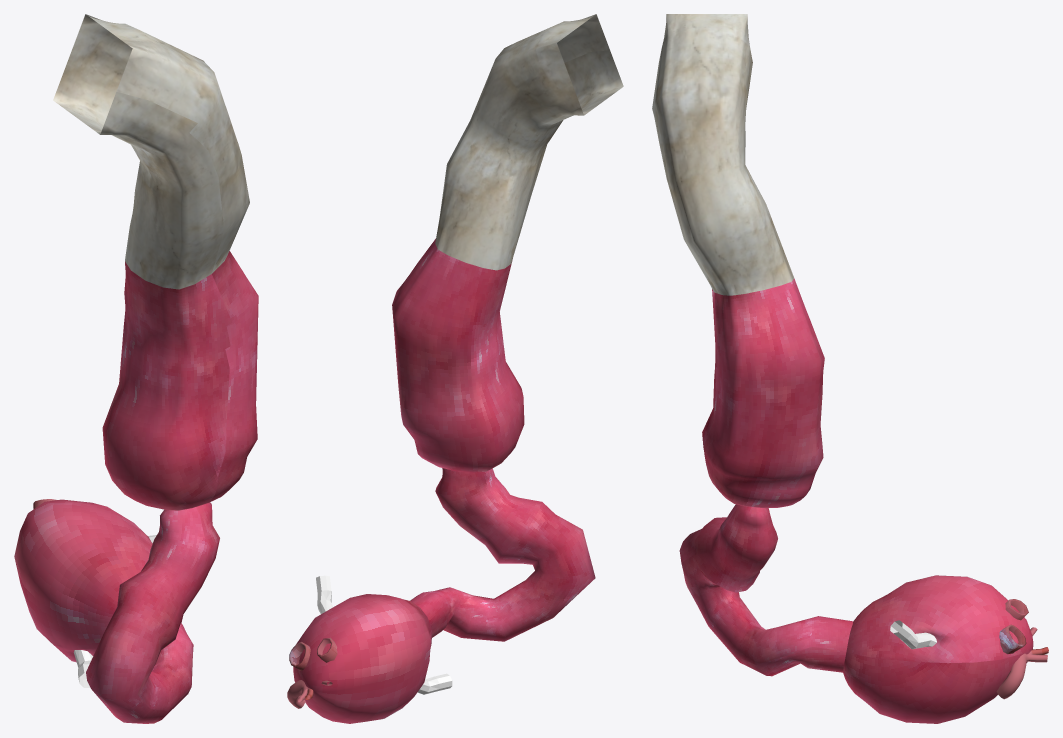
Rendered from inside.dae.
The picture shows the model from 3 angles, left to right: view 1: azimuth 30°, elevation 25°; view 2: azimuth 150°, elevation 25°; view 3: azimuth 270°, elevation 25°; orthographic projection. The views are drawn at different scales.
Parts seen in each view (by area): view 1: inside_tunnel, inside, cables; view 2: inside_tunnel, inside, heart, cables; view 3: inside_tunnel, inside, heart, cables.
Part boxes in pixels (bbox=[...]): inside_tunnel: bbox=[53, 14, 258, 723]; inside: bbox=[14, 499, 182, 662]; cables: bbox=[73, 535, 156, 687]; inside_tunnel: bbox=[392, 14, 623, 641]; inside: bbox=[293, 594, 432, 723]; heart: bbox=[287, 637, 337, 708]; cables: bbox=[316, 575, 452, 694]; inside_tunnel: bbox=[652, 14, 853, 676]; inside: bbox=[843, 575, 1033, 723]; heart: bbox=[996, 599, 1048, 699]; cables: bbox=[890, 620, 936, 649].
Bounding box in the file's own units: 204 × 352 × 635.
7 materials, 6 textured.
